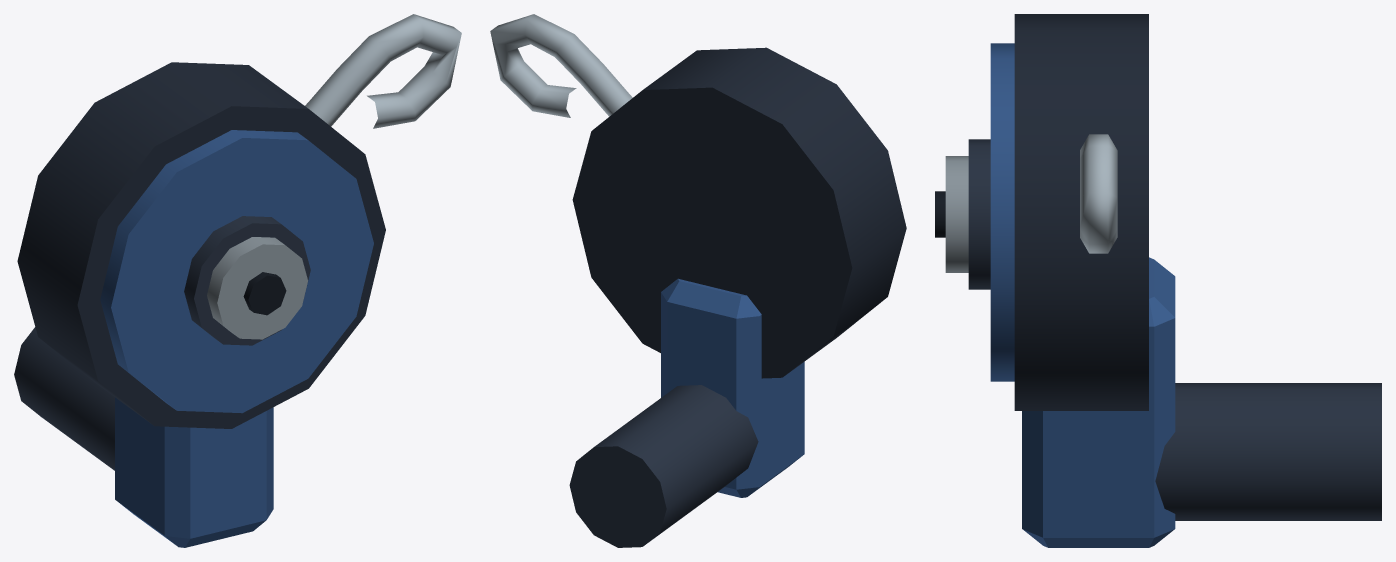
File: tether_reel.glb
The picture shows the model from 3 angles, left to right: view 1: azimuth 30°, elevation 25°; view 2: azimuth 150°, elevation 25°; view 3: azimuth 270°, elevation 25°; orthographic projection. The views are drawn at different scales.
Visible parts, largest first — view 1: tether_reel_geo; view 2: tether_reel_geo; view 3: tether_reel_geo.
Boxes of the visible parts, left/top/right/bottom form: tether_reel_geo: left=14, top=14, right=461, bottom=547; tether_reel_geo: left=490, top=14, right=906, bottom=547; tether_reel_geo: left=935, top=14, right=1381, bottom=547.
Bounding box in the file's own units: 0.2572 × 0.2647 × 0.213.
